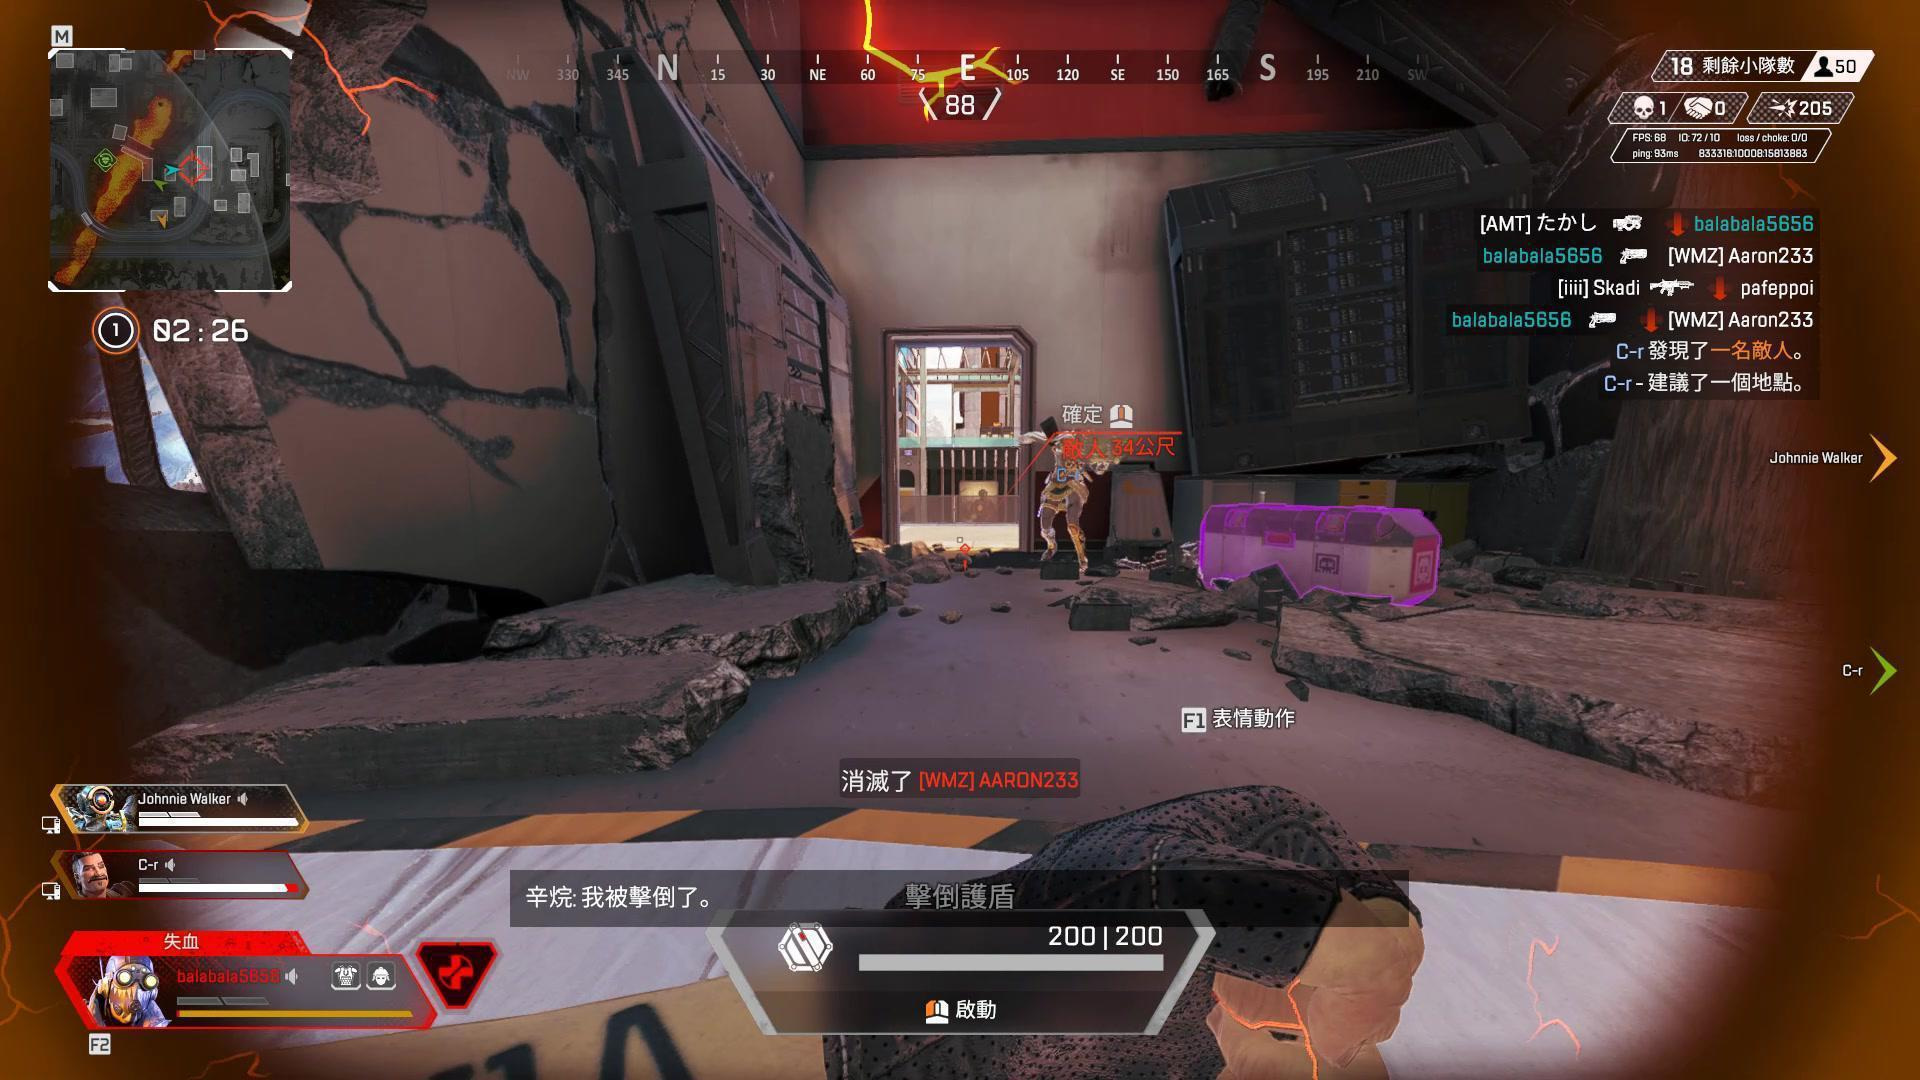avatar: (1021, 419, 1102, 574)
